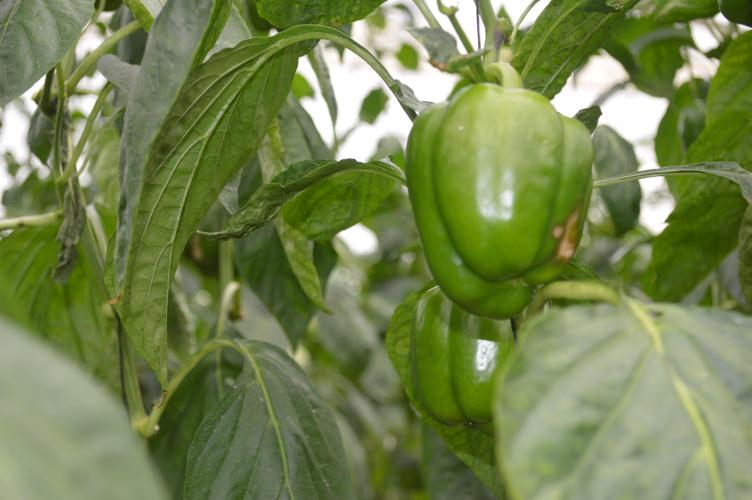BellPepper: (406, 88, 603, 308), (392, 290, 537, 435)
